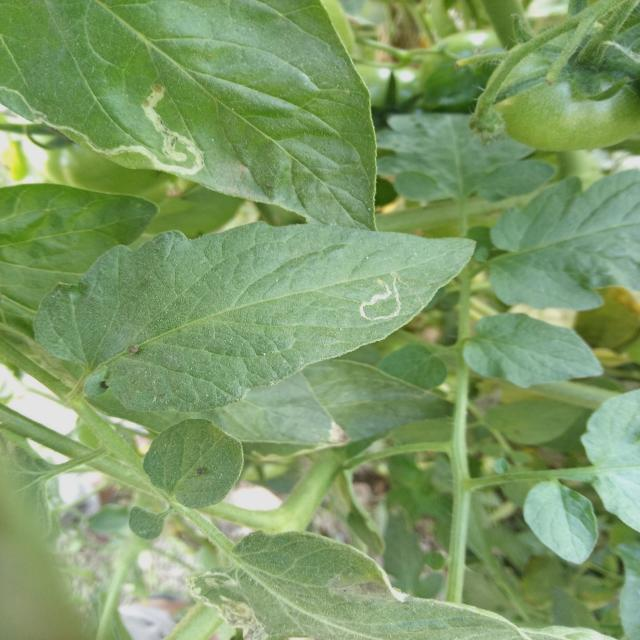Tuta absoluta: (84, 81, 219, 216), (354, 275, 403, 324)
